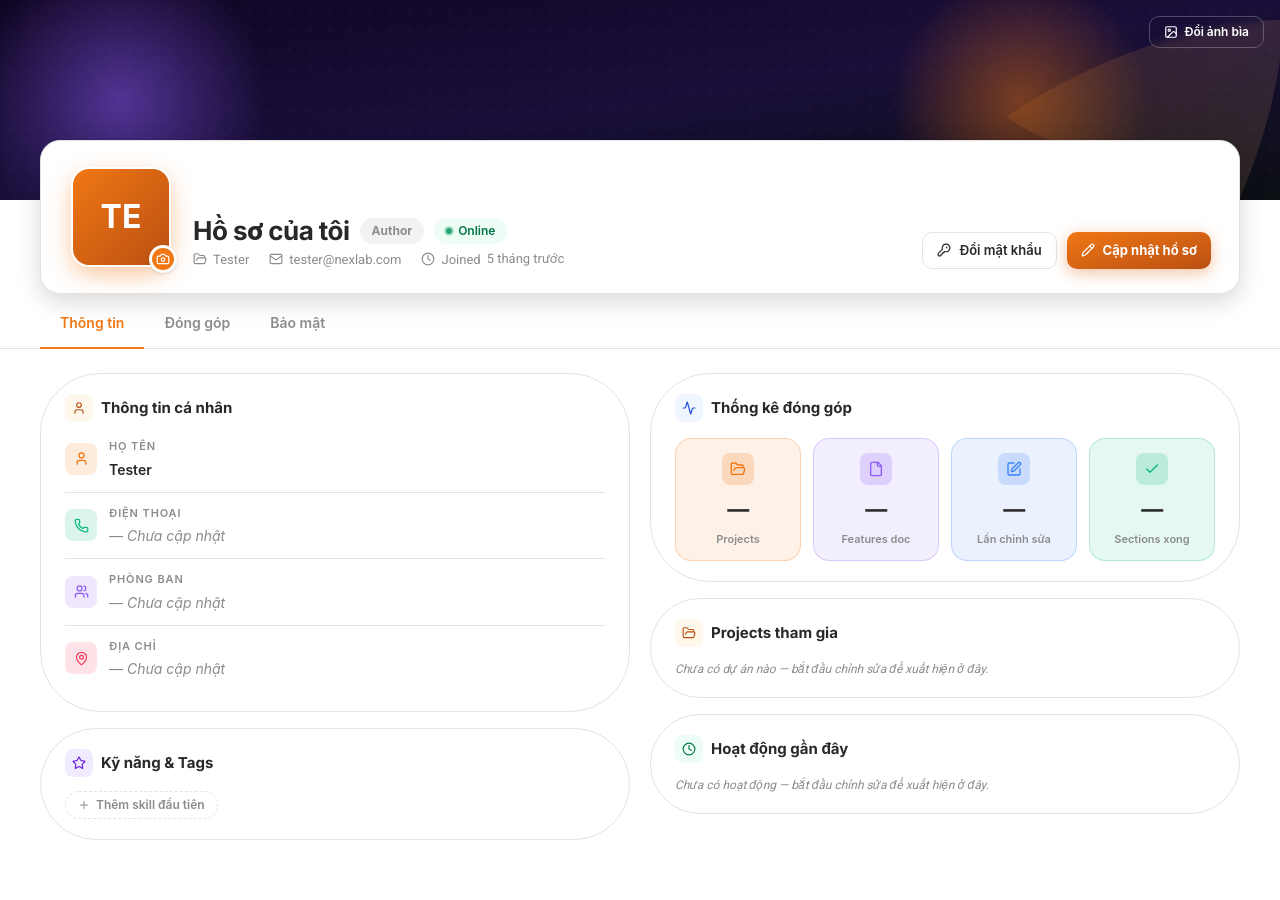
Test: ProfilePage (US-009 / v4.2 — 3 dialog actions) › ChangePasswordDialog: mismatch shows inline error, no POST
Click the button "Đổi mật khẩu" at [990, 250], box [922,232,1057,269]
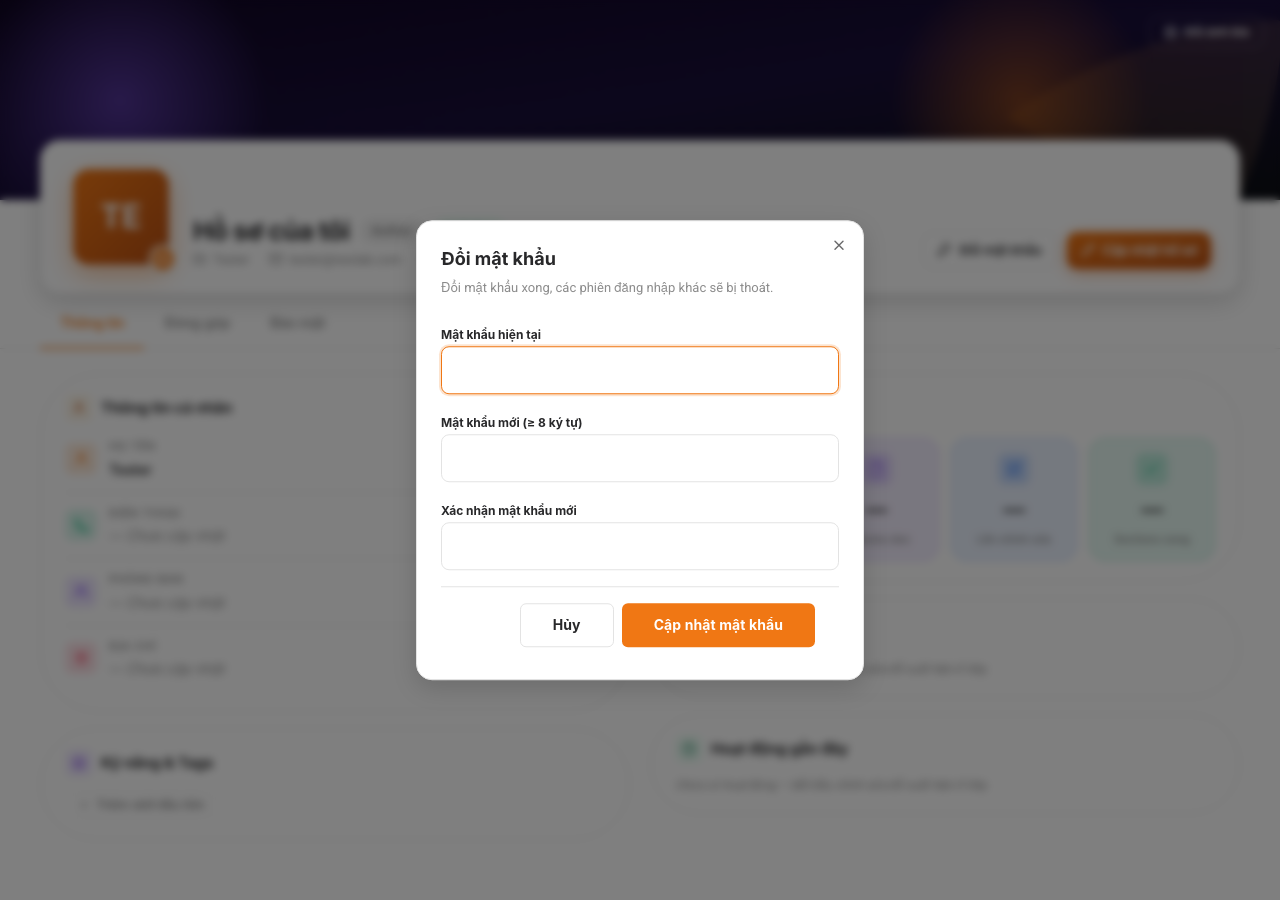
Type "old12345" into the password field labelled "Mật khẩu hiện tại" at [640, 370], box [441,346,839,394]
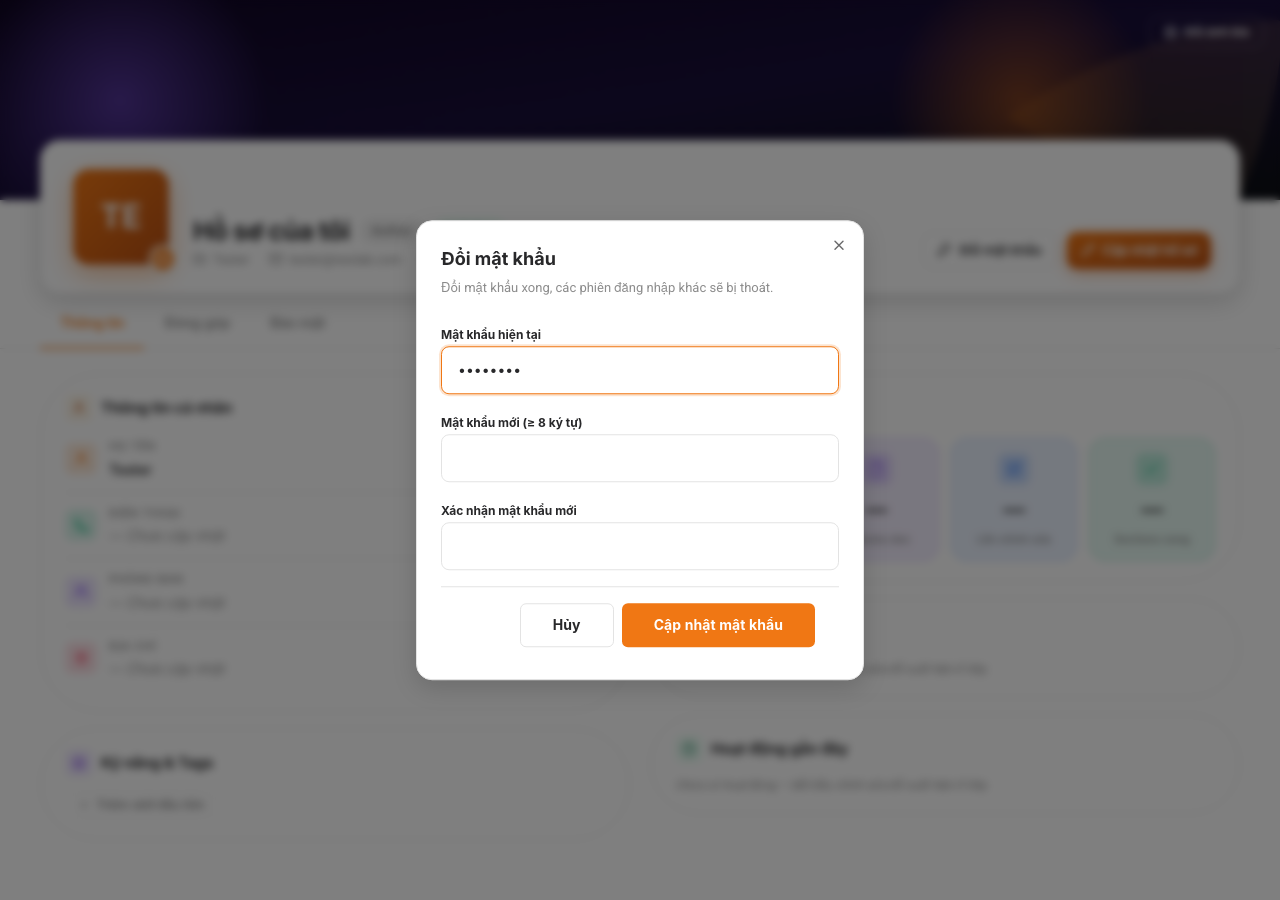
Type "new12345xx" into the password field labelled "Mật khẩu mới (≥ 8 ký tự)" at [640, 458], box [441,434,839,482]
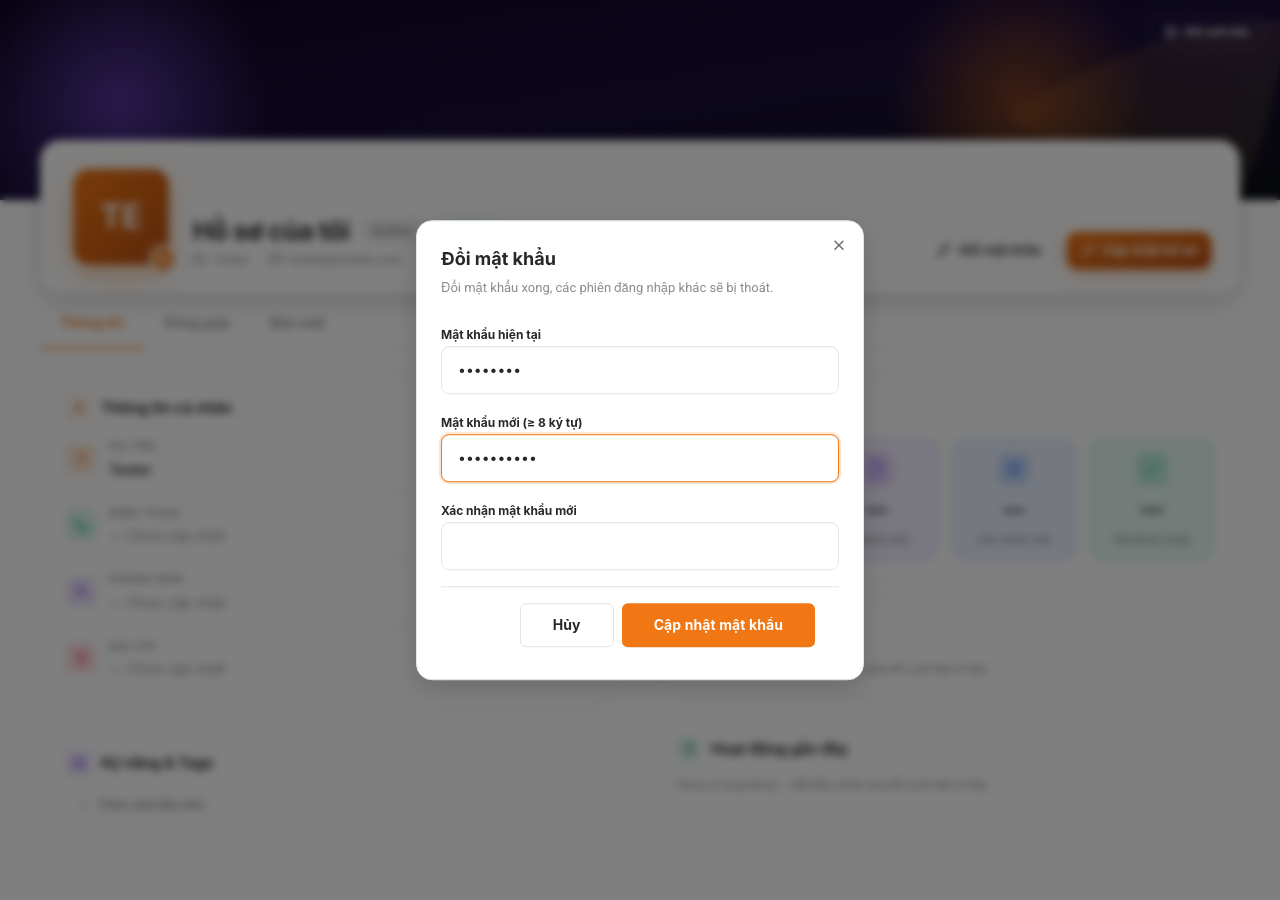
Type "different00" into the password field labelled "Xác nhận mật khẩu mới" at [640, 546], box [441,522,839,570]
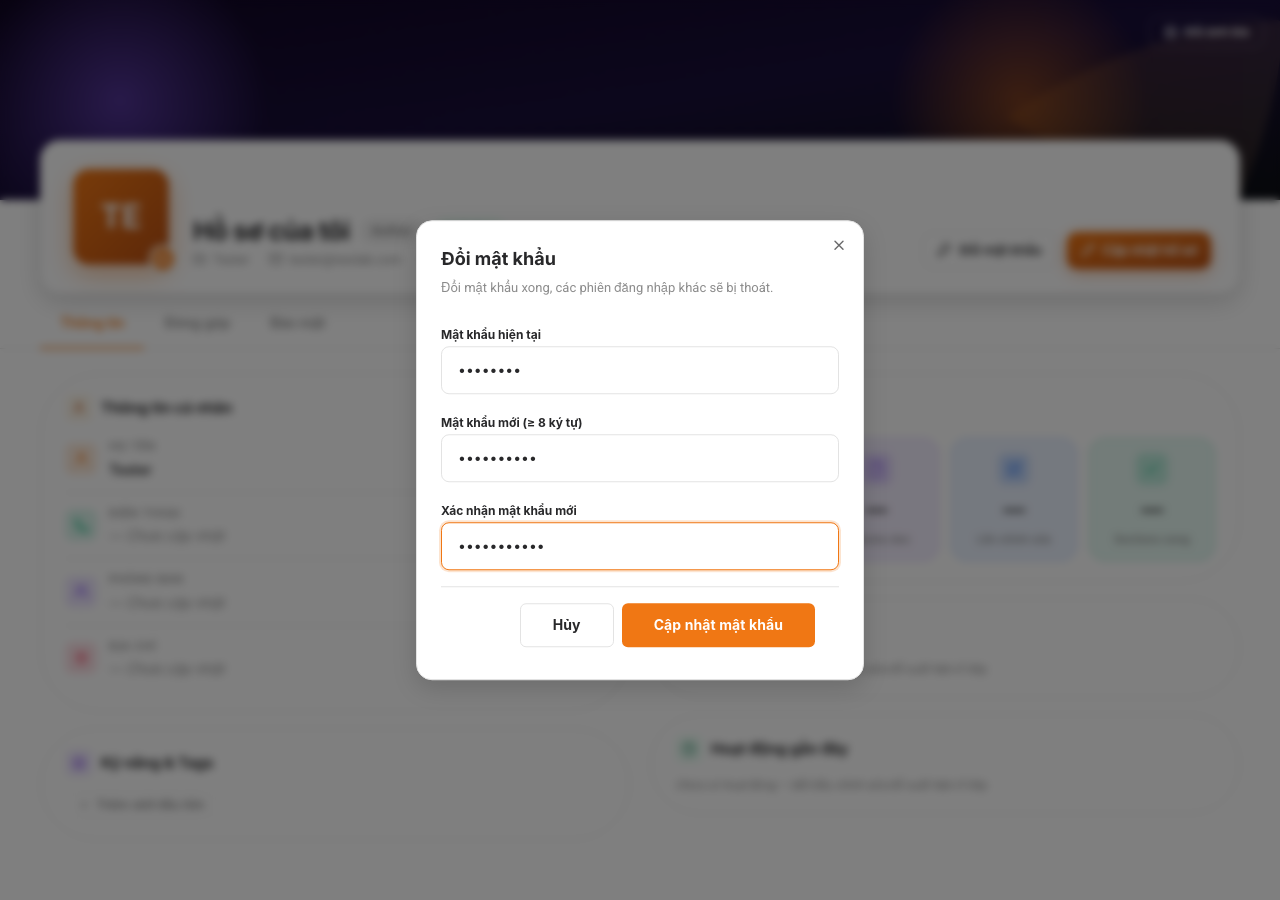
Click the button "Cập nhật mật khẩu" at [718, 625], box [622,603,815,647]
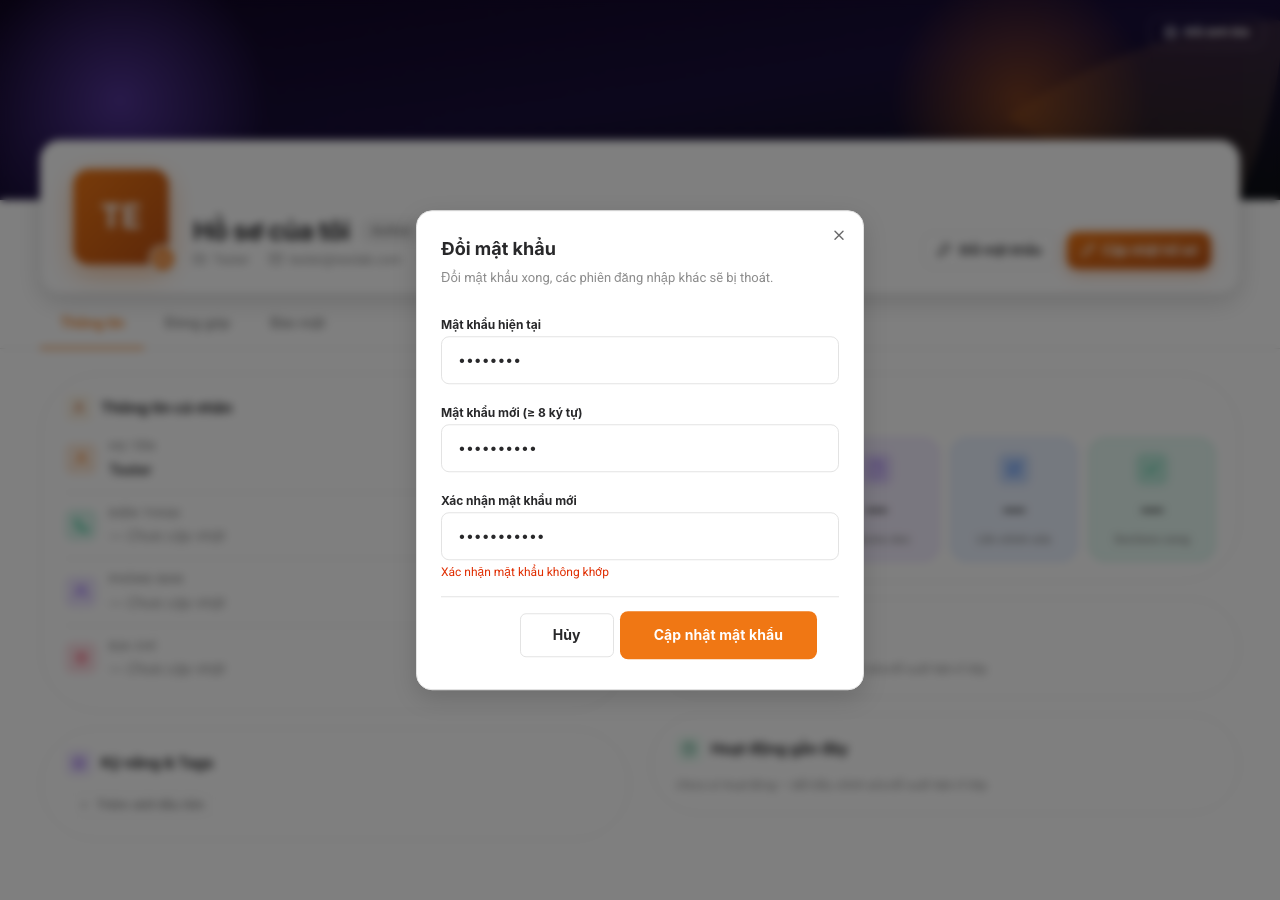
Now the text "Xác nhận mật khẩu không khớp" is shown, box [441,565,609,579]
